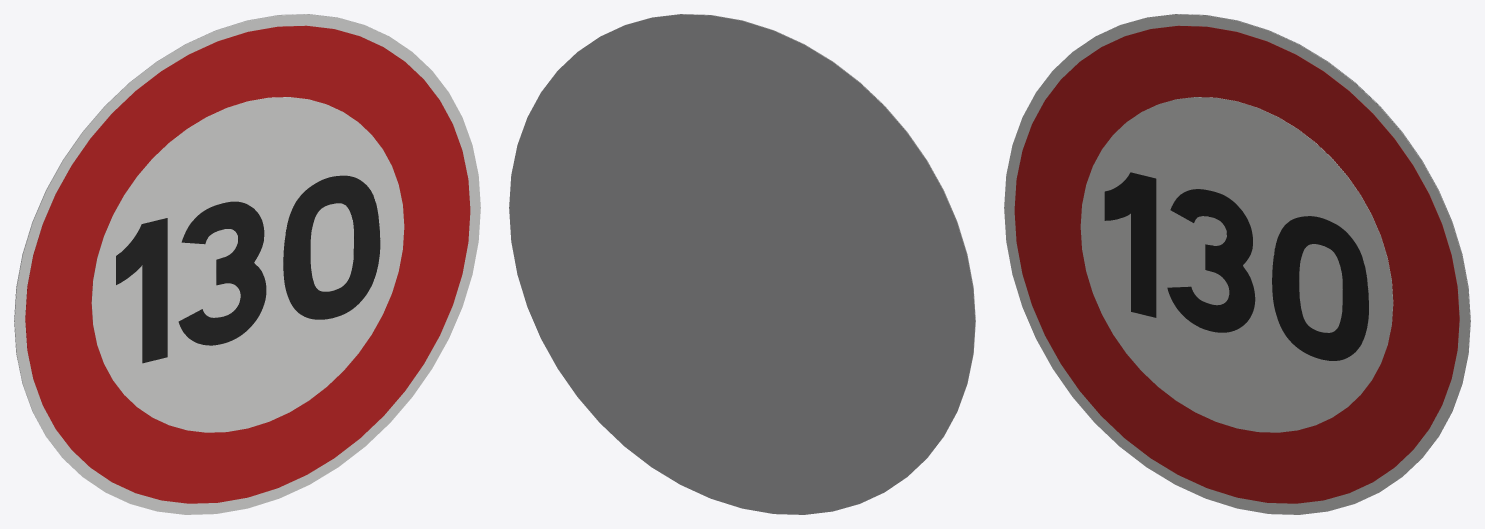
The picture shows the model from 3 angles, left to right: view 1: azimuth 30°, elevation 25°; view 2: azimuth 150°, elevation 25°; view 3: azimuth 330°, elevation 25°; orthographic projection.
Parts seen in each view (by area): view 1: B14-130_p01, B14-130_p02, B14-130_p03, B14-130_p00, B14-130_dos; view 2: B14-130_dos, B14-130_p00; view 3: B14-130_p01, B14-130_p02, B14-130_p03, B14-130_p00, B14-130_dos.
Boxes of the visible parts, <box> form: B14-130_p01: <box>25,25,470,503</box>; B14-130_p02: <box>91,97,404,432</box>; B14-130_p03: <box>116,175,380,363</box>; B14-130_p00: <box>14,14,480,514</box>; B14-130_dos: <box>14,14,385,473</box>; B14-130_dos: <box>509,14,975,514</box>; B14-130_p00: <box>604,14,975,473</box>; B14-130_p01: <box>1014,25,1459,503</box>; B14-130_p02: <box>1080,97,1393,432</box>; B14-130_p03: <box>1104,172,1368,360</box>; B14-130_p00: <box>1004,14,1470,514</box>; B14-130_dos: <box>1099,14,1470,473</box>.
Bounding box in the file's own units: 0.85 × 0.8498 × 0.0031.
